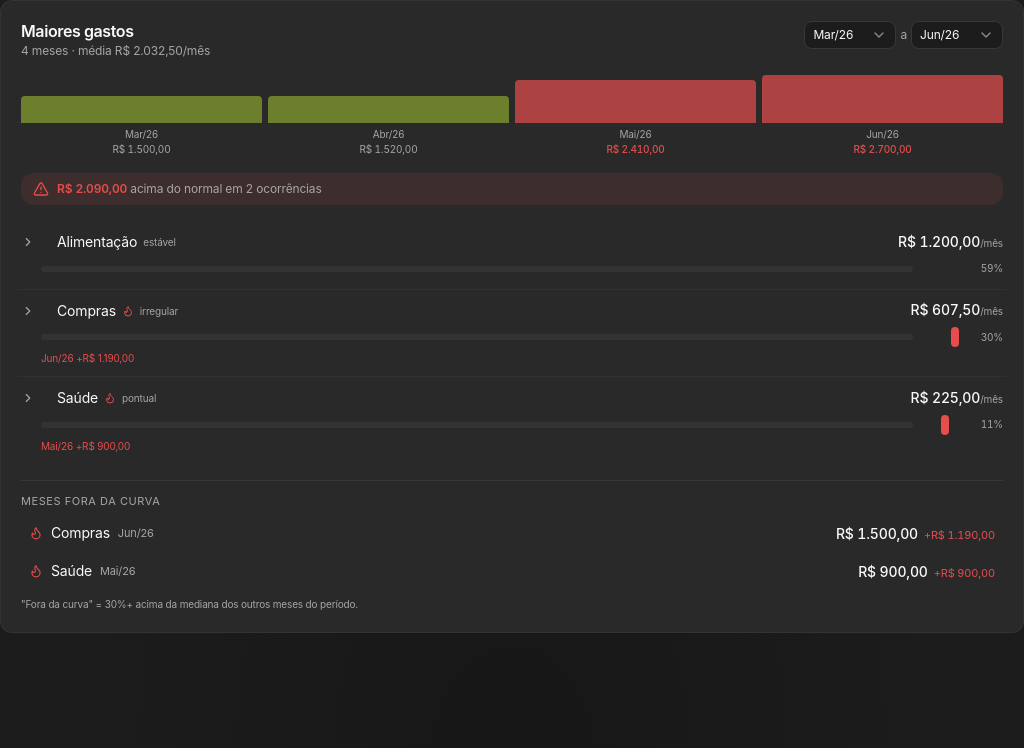
Test: <PicosGastos /> › fecha ao clicar de novo (accordion)
The width and height of the screenshot is (1024, 748).
Step 1. Click the button "Compras irregular R$ 607,50/mês" → (86, 310), box [21,300,1003,327]
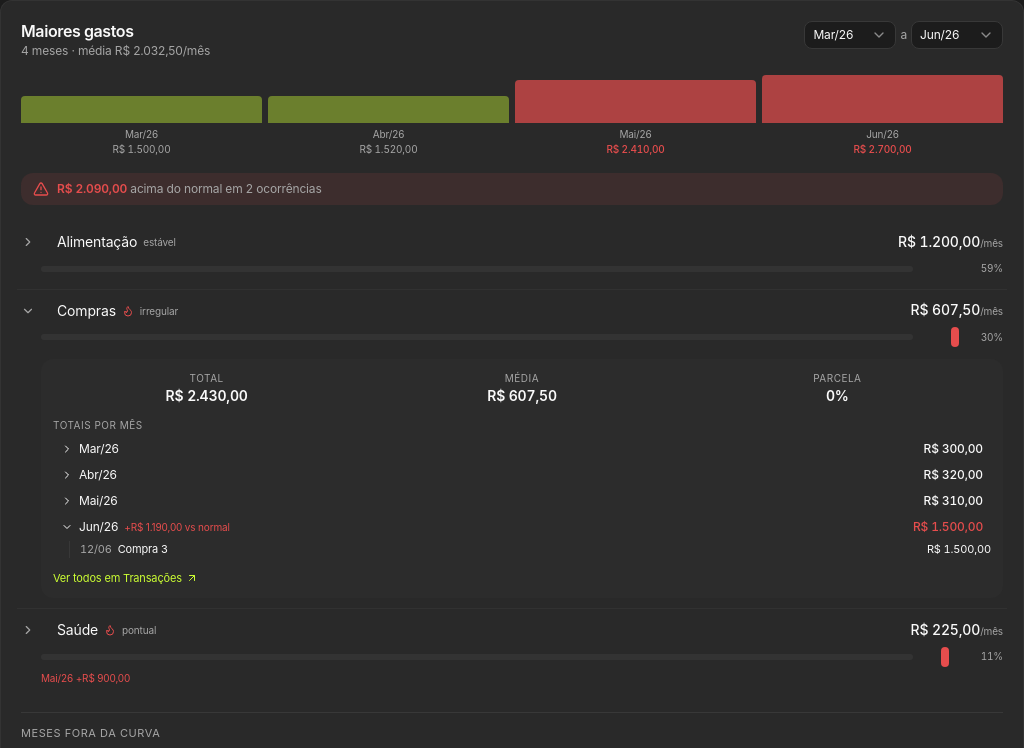
Result: the text "Totais por mês" is shown at [53,419,143,431]
Step 2. Click the button "Compras irregular R$ 607,50/mês" → (86, 310), box [21,300,1003,327]
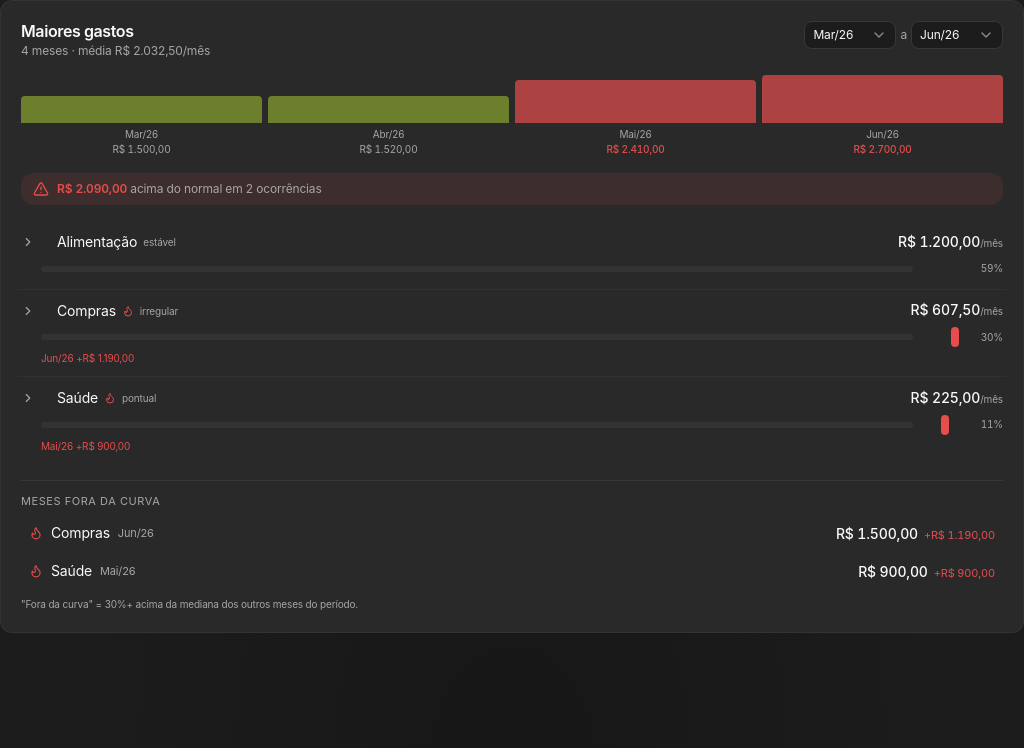
Result: the text "Totais por mês" is gone
